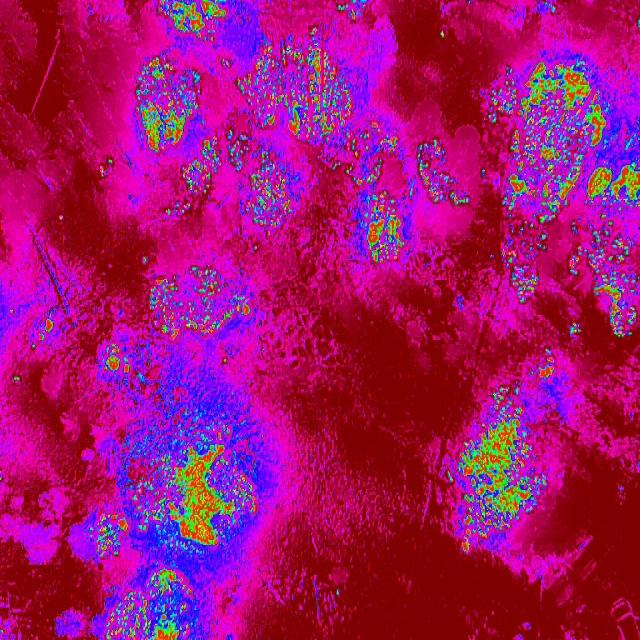fire: (86, 405, 264, 565), (488, 54, 617, 208), (446, 383, 548, 556), (241, 36, 365, 136), (566, 208, 640, 338), (133, 49, 218, 157), (146, 266, 255, 339), (106, 569, 208, 640), (499, 208, 556, 306), (328, 136, 403, 186), (418, 138, 471, 207), (252, 150, 296, 229), (362, 188, 404, 262), (158, 1, 229, 43), (94, 343, 144, 387), (619, 110, 640, 208), (145, 374, 206, 406), (182, 156, 222, 192), (224, 128, 248, 172), (27, 317, 52, 351), (531, 348, 557, 380), (336, 0, 368, 18), (164, 201, 192, 219), (98, 157, 114, 181), (534, 0, 558, 14), (408, 178, 418, 200), (11, 372, 22, 386), (370, 120, 379, 135), (243, 200, 251, 214), (221, 58, 232, 68), (310, 25, 321, 35), (56, 214, 66, 222), (440, 29, 448, 38), (234, 78, 240, 90), (142, 254, 148, 266), (252, 242, 258, 254), (221, 356, 228, 366), (335, 587, 340, 599), (636, 18, 640, 32), (8, 308, 14, 314)
